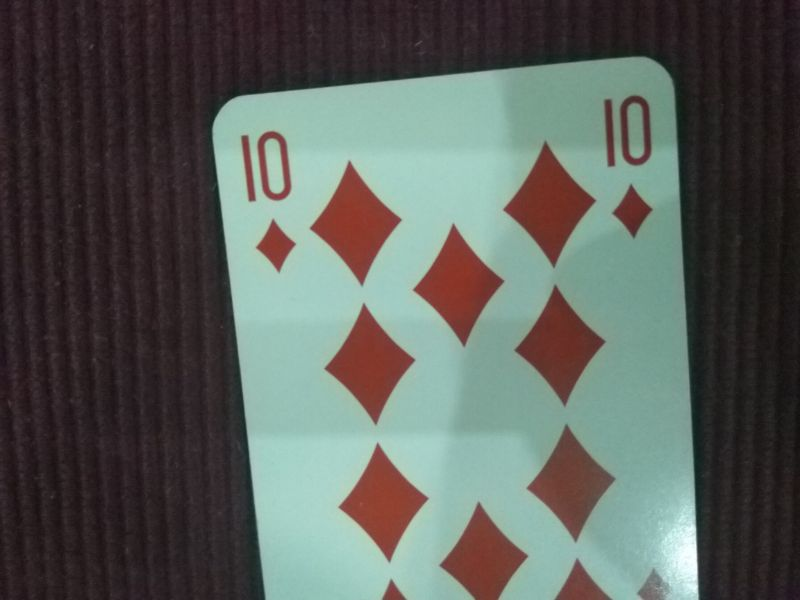Td: (234, 127, 302, 279), (597, 91, 660, 243)
